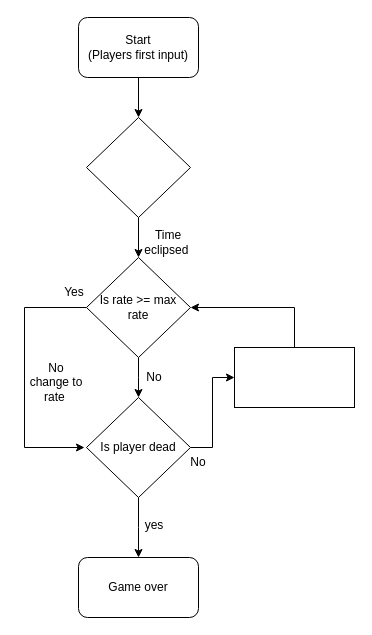
Image size: 372x635. Some labels were removed from this diagram. The shapes that lost their labels are listed below. From the top down, each one's box as (x1, y1, x2, y2) in pixels, then its label:
(86, 116, 190, 218): 3 second grace period
(234, 346, 354, 408): Increase rate by 5%
